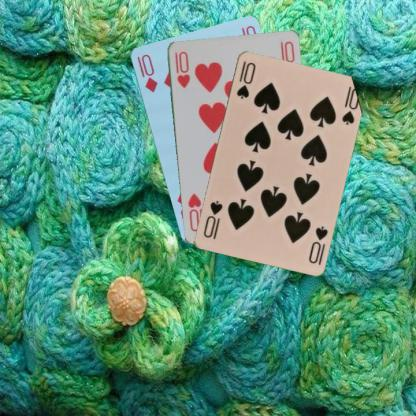10d: (134, 51, 159, 93)
10h: (172, 49, 191, 89)
10s: (234, 58, 256, 100), (306, 223, 328, 265)
